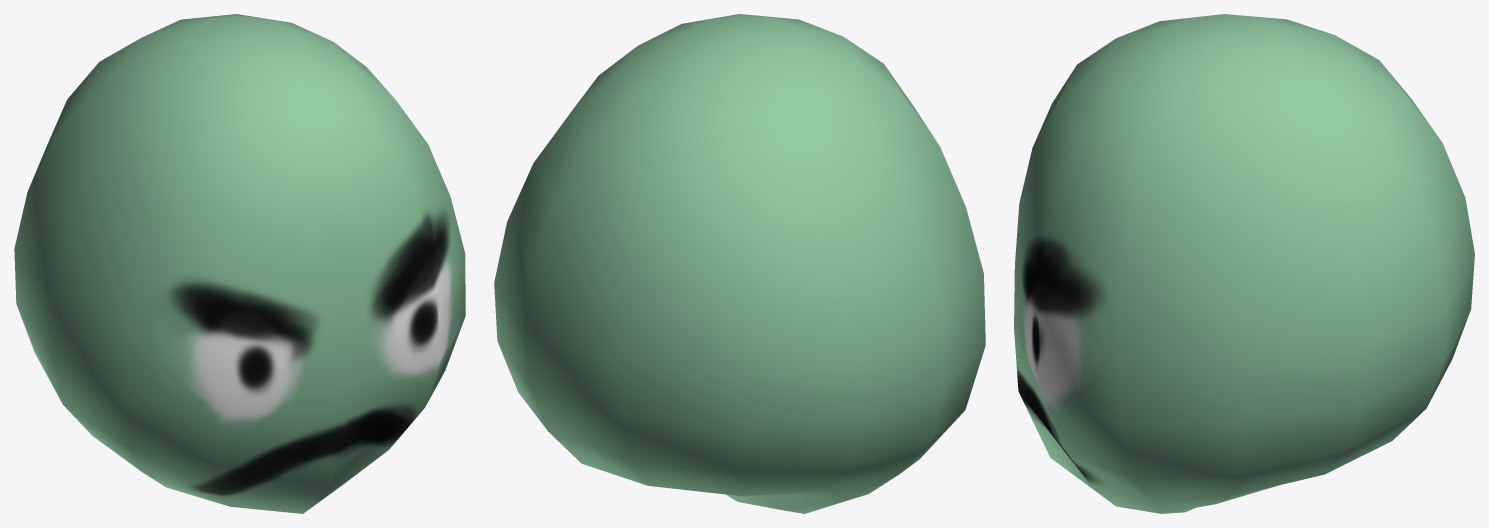
Rendered from sheldon head.fbx.
3 views of the same model, side by side, from view 1: azimuth 30°, elevation 25°; view 2: azimuth 150°, elevation 25°; view 3: azimuth 270°, elevation 25° (orthographic). The views are drawn at different scales.
Visible parts, largest first — view 1: head_Material; view 2: head_Material; view 3: head_Material.
Part boxes in pixels (bbox=[...]): head_Material: bbox=[14, 14, 465, 513]; head_Material: bbox=[494, 14, 985, 513]; head_Material: bbox=[1014, 14, 1474, 513].
Size of the model in its own units: 0.0184 by 0.0207 by 0.0185.
